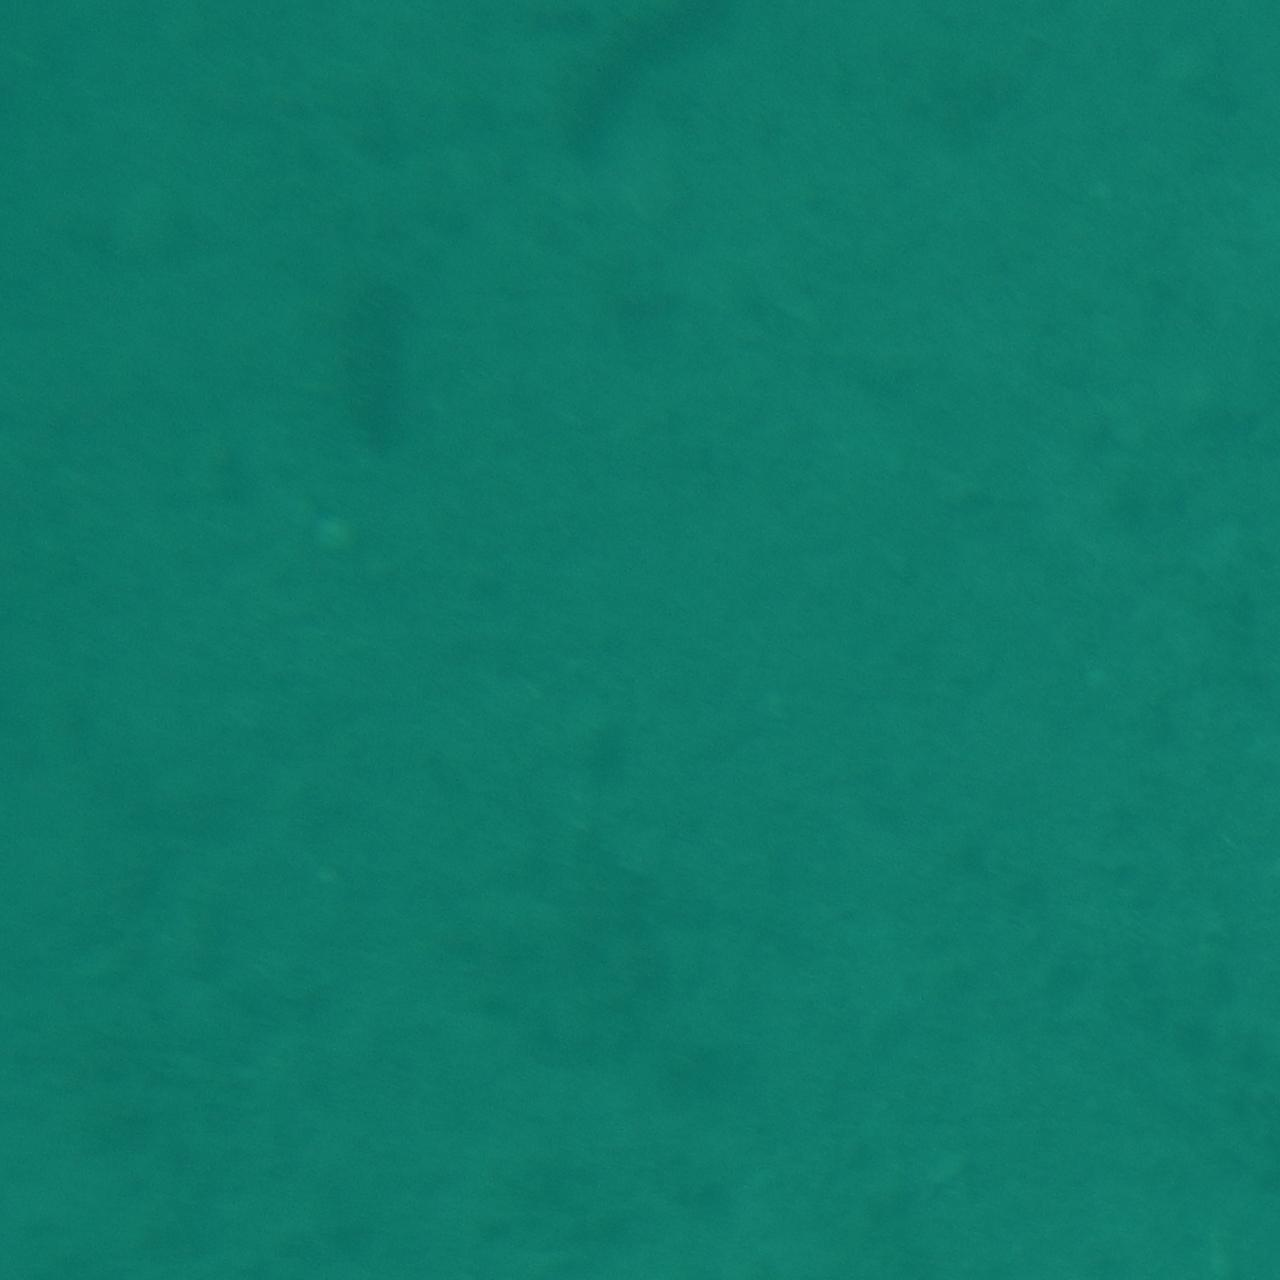Holothuria tubulosa: (536, 0, 787, 195), (309, 219, 447, 477)
